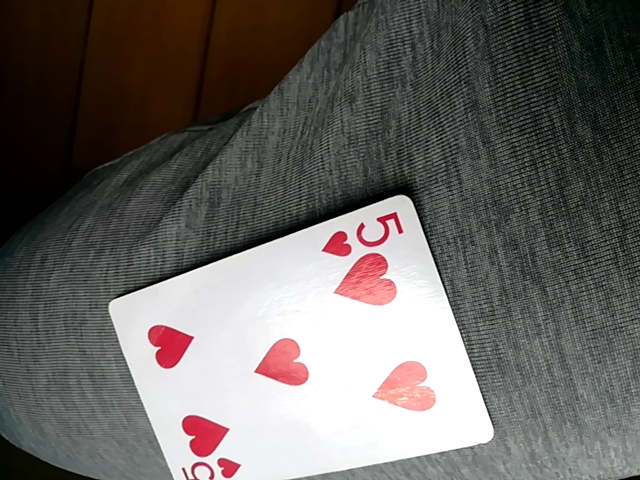hx 5: (110, 190, 496, 477)
